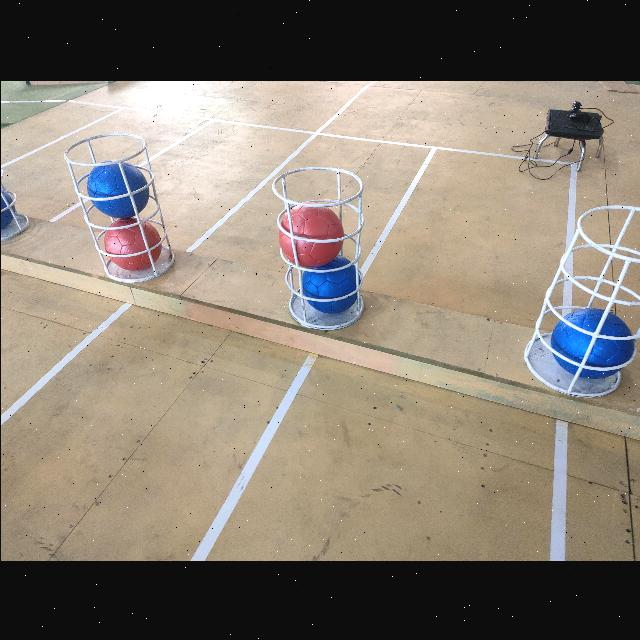B: (550, 306, 634, 378), (298, 254, 362, 314), (87, 159, 149, 217), (0, 186, 14, 230)
R: (277, 201, 343, 267), (103, 217, 159, 269)
